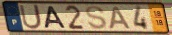2: (64, 4, 87, 31)
4: (132, 4, 149, 32)
A: (44, 5, 68, 29), (108, 6, 132, 30)
S: (85, 5, 109, 31)
U: (18, 4, 44, 31)
